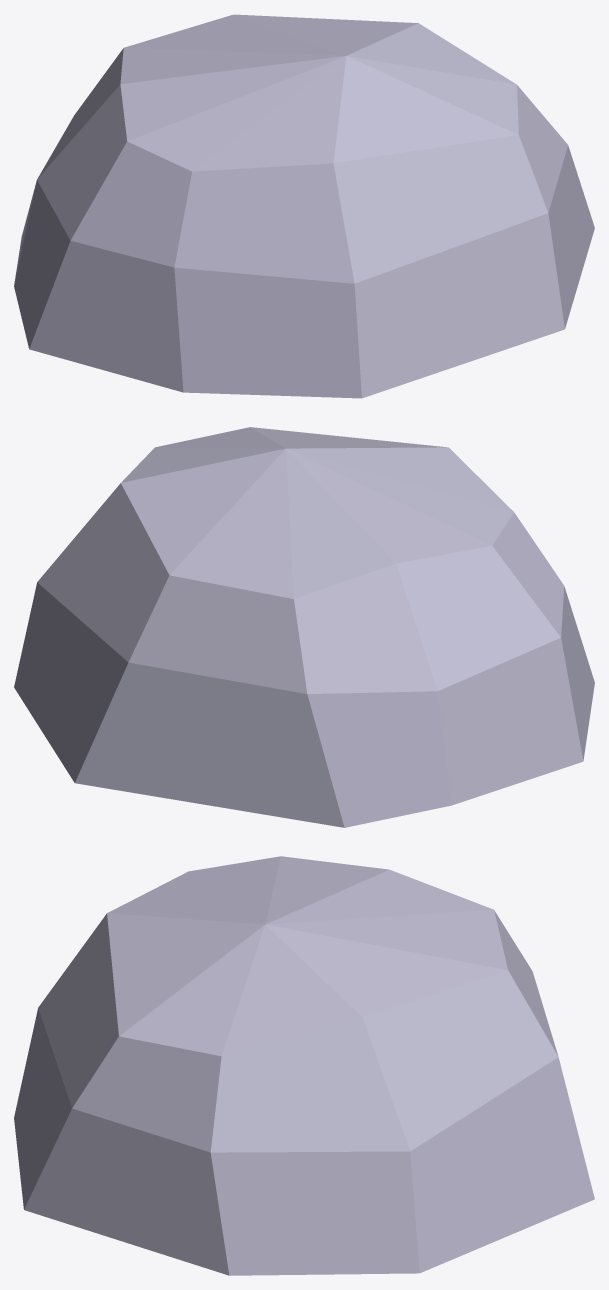
Rendered from Barrior-stone05.fbx.
The picture shows the model from 3 angles, top to bottom: view 1: azimuth 30°, elevation 25°; view 2: azimuth 150°, elevation 25°; view 3: azimuth 270°, elevation 25°; orthographic projection. The views are drawn at different scales.
Parts seen in each view (by area): view 1: Barrior-stone04; view 2: Barrior-stone04; view 3: Barrior-stone04.
Part boxes in pixels (<box>): Barrior-stone04: <box>14,14,594,398</box>; Barrior-stone04: <box>14,427,594,827</box>; Barrior-stone04: <box>14,856,594,1275</box>.
Size of the model in its own units: 996 by 410 by 875.
